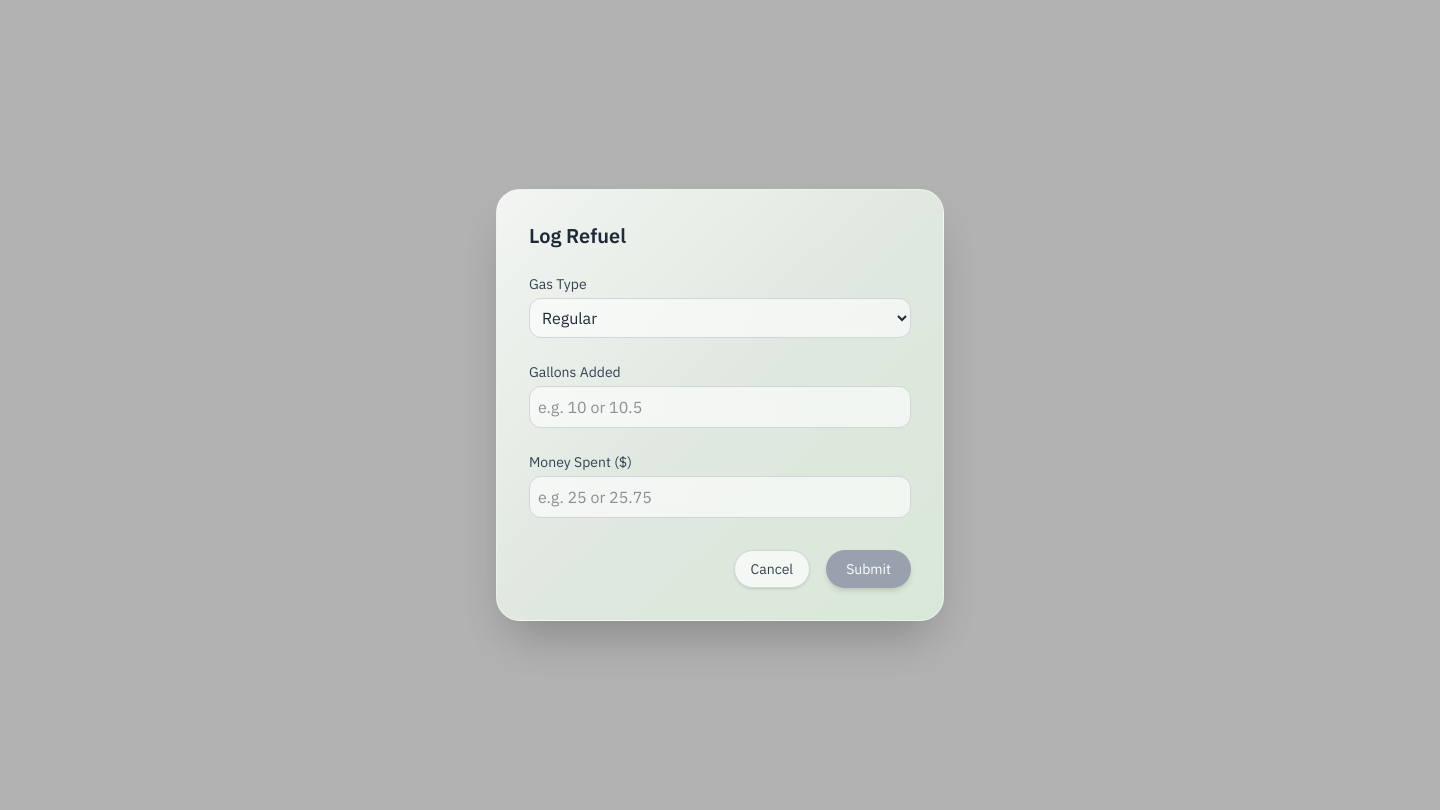
Test: LogRefuelModal › submit button enabled when form valid
The image size is (1440, 810).
Type "10" into the field labelled "Gallons Added". click: (720, 407)
box: [529,386,911,428]
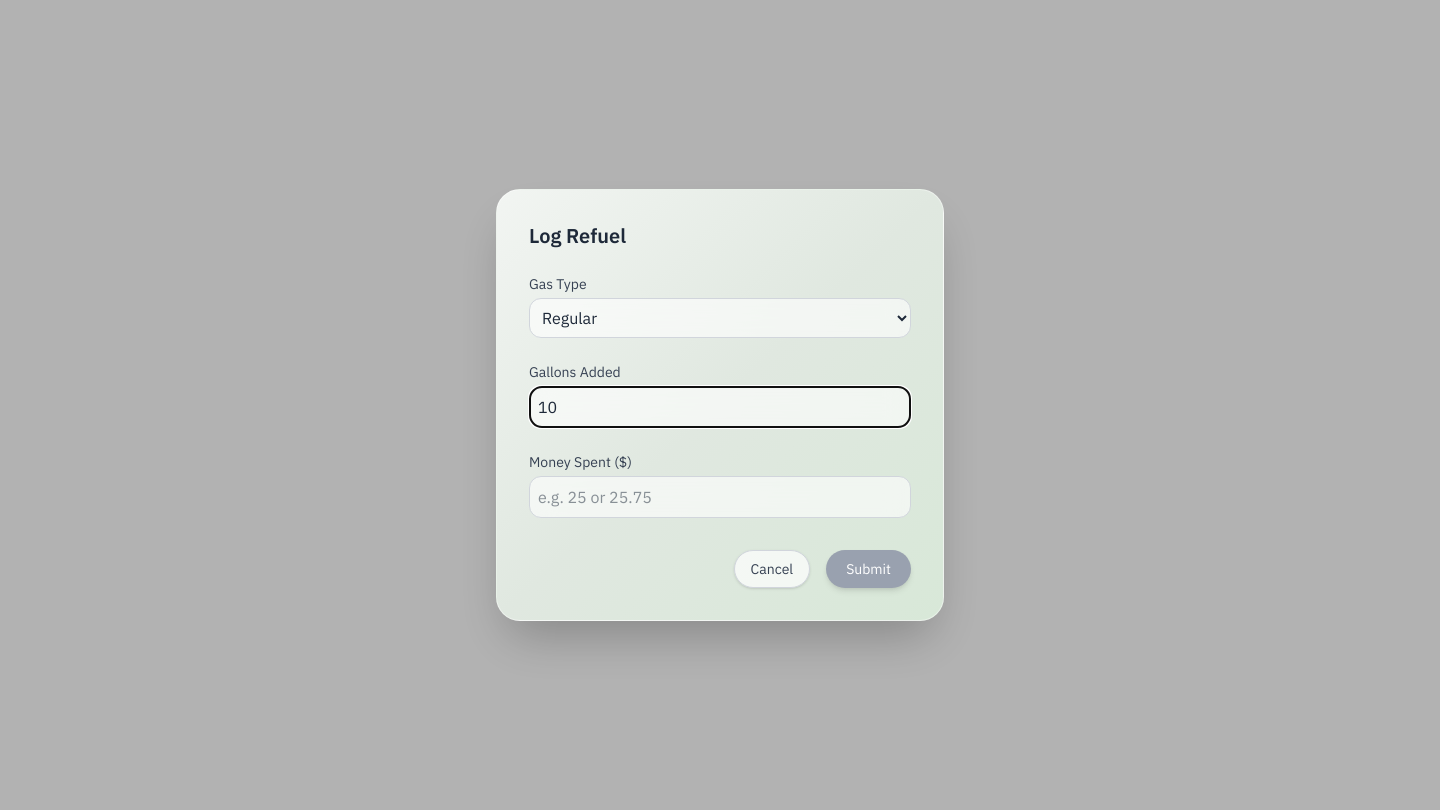
Type "25" into the field labelled "Money Spent ($)". click: (720, 497)
box: [529,476,911,518]
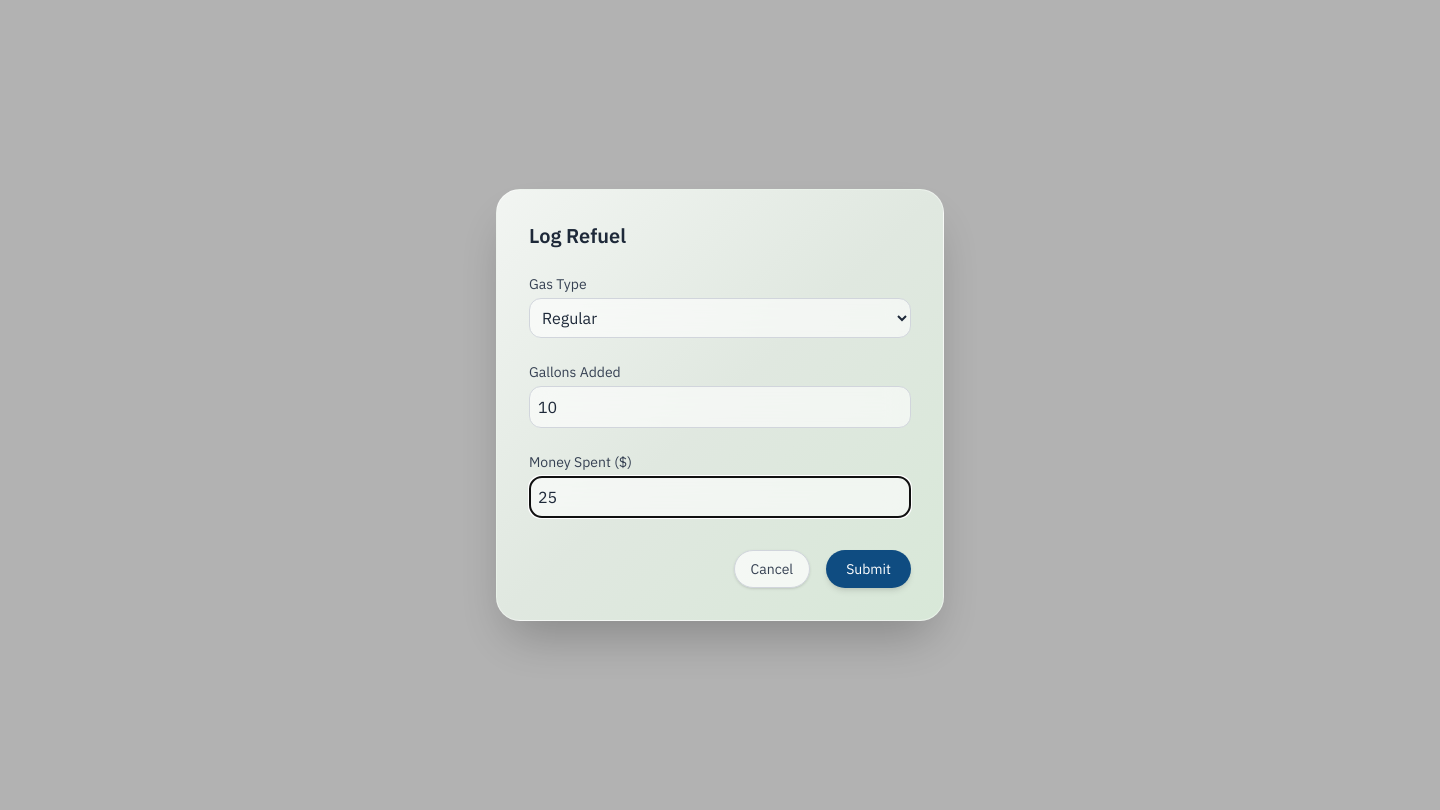
Result: the button "Submit" is enabled at [826,550,911,588]
